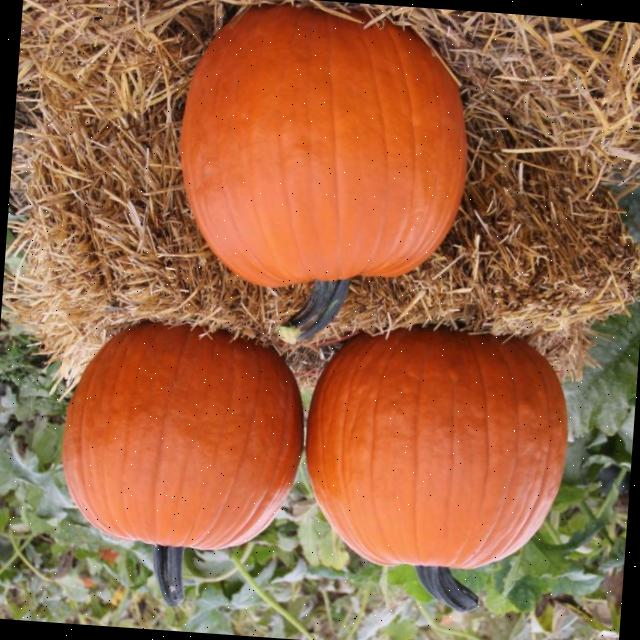pumpkin: (179, 5, 465, 339), (306, 328, 566, 610), (62, 322, 301, 603)
